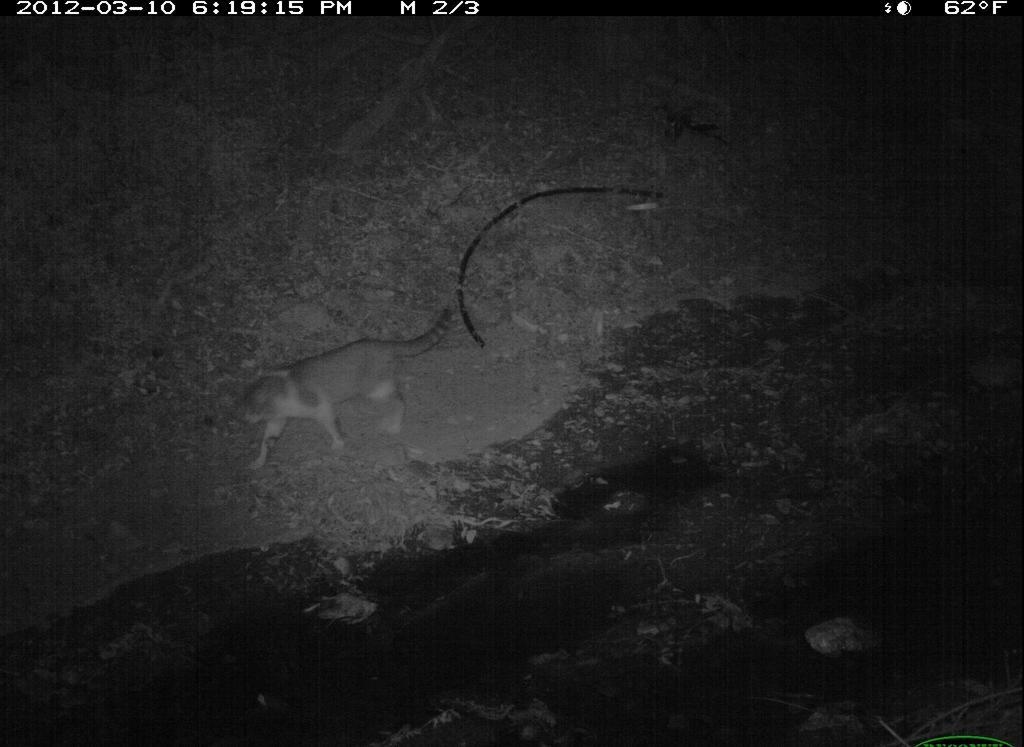cat: (225, 308, 457, 470)
